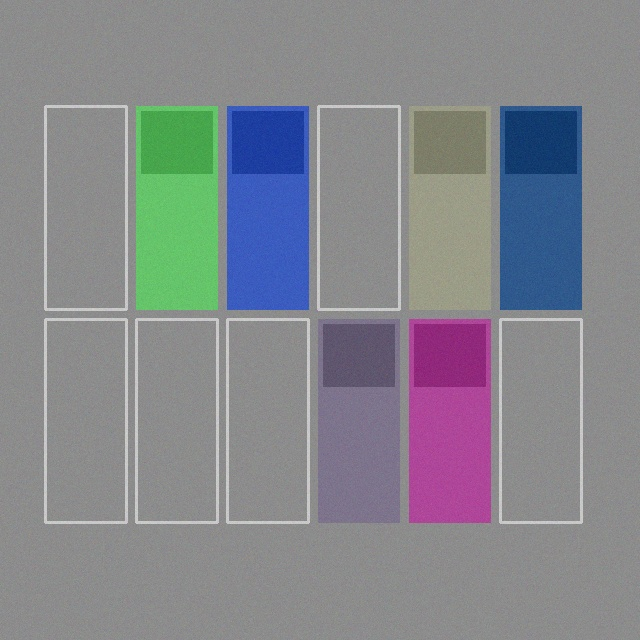space-empty: (45, 106, 126, 309), (318, 106, 399, 309), (45, 319, 126, 522), (136, 319, 217, 522), (227, 319, 308, 522), (500, 319, 581, 522)
space-occupied: (136, 106, 217, 309), (227, 106, 308, 309), (409, 106, 490, 309), (500, 106, 581, 309), (318, 319, 399, 522), (409, 319, 490, 522)
